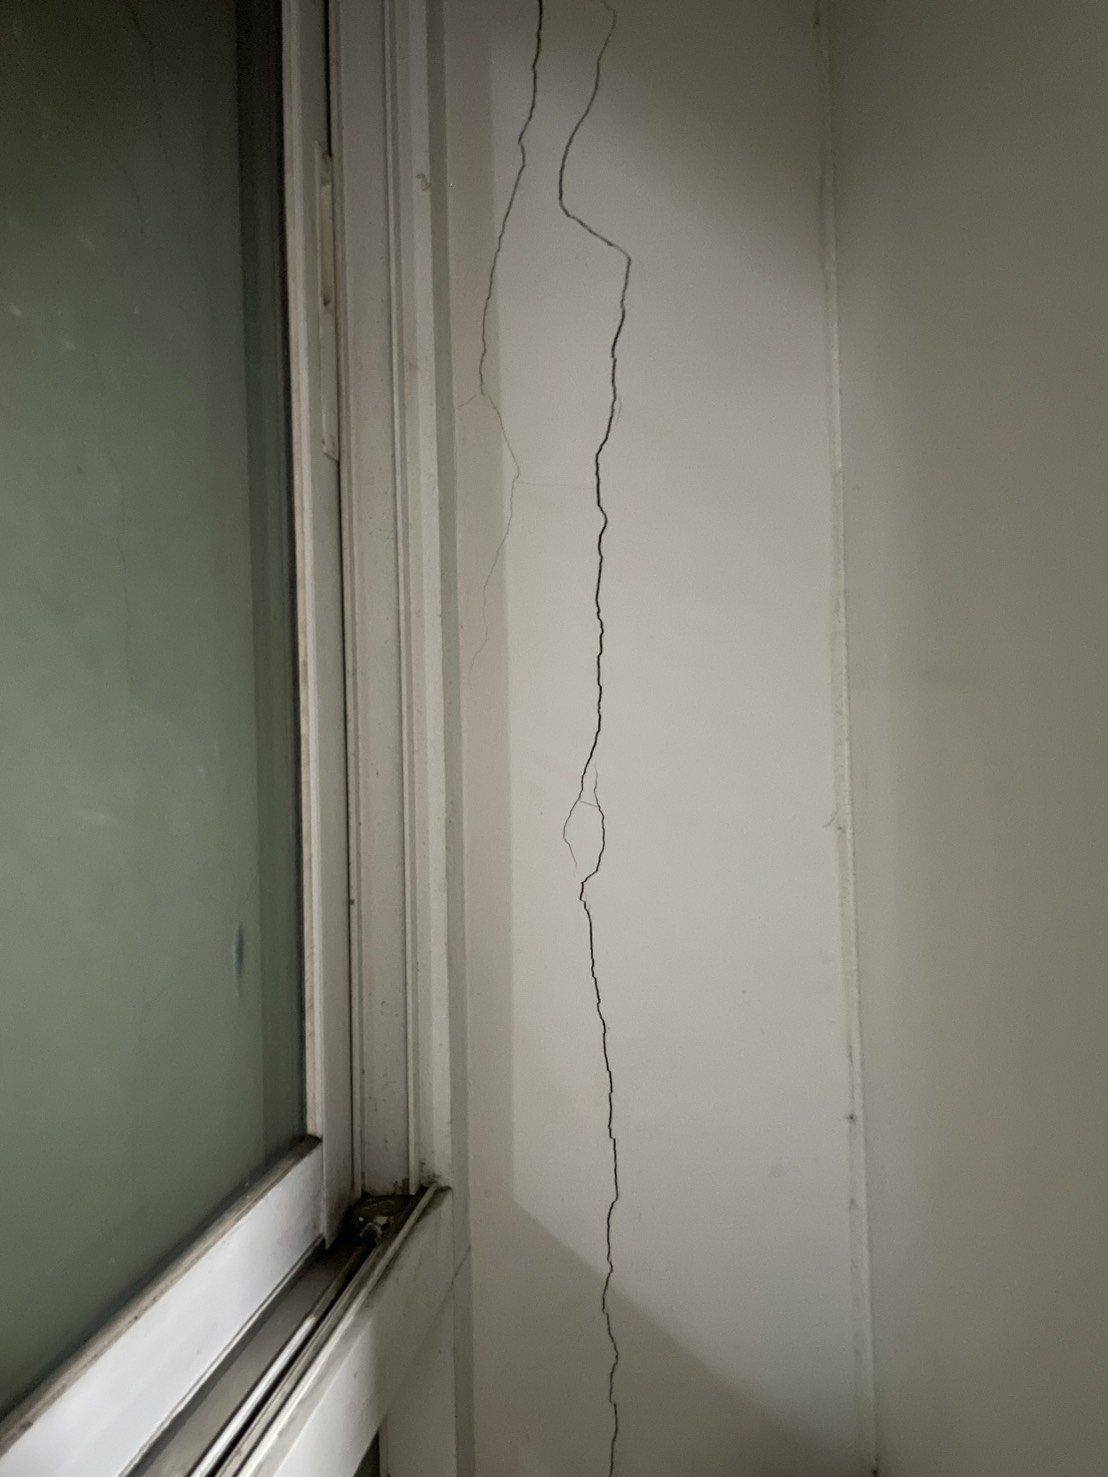Low: (466, 1, 651, 1312)
